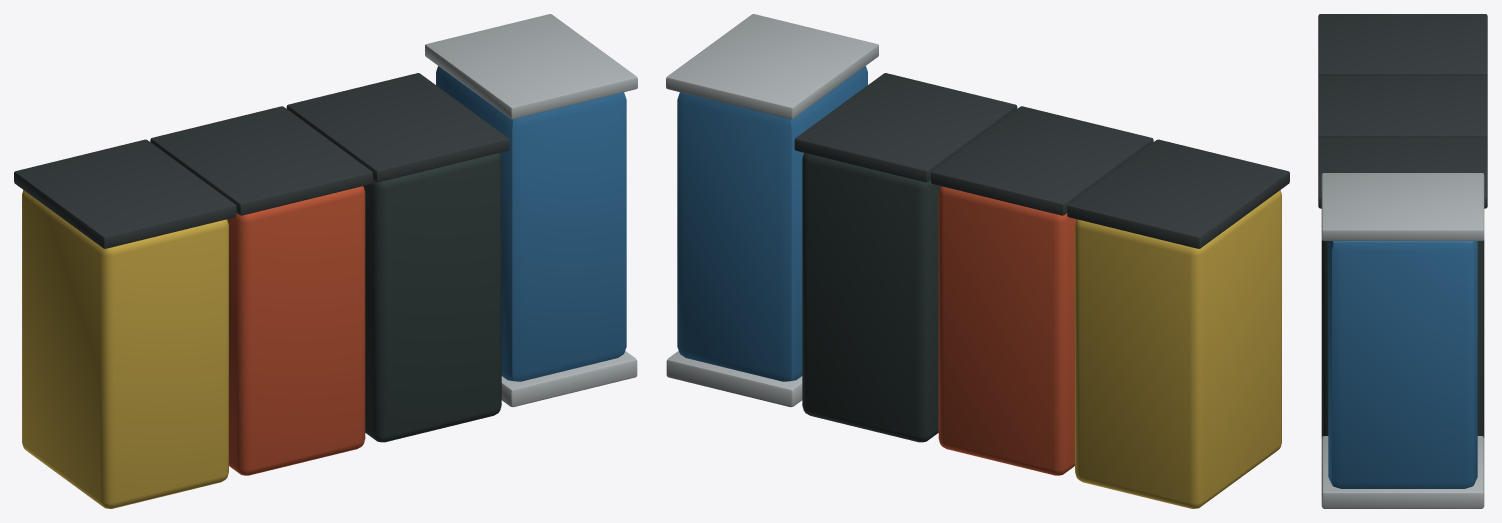
Rendered from sc-waste-station.glb.
3 renders of one model, left to right at view 1: azimuth 30°, elevation 25°; view 2: azimuth 150°, elevation 25°; view 3: azimuth 270°, elevation 25°, orthographic. The views are drawn at different scales.
Parts seen in each view (by area): view 1: sc-waste-station; view 2: sc-waste-station; view 3: sc-waste-station.
Part boxes in pixels (<box>): sc-waste-station: <box>14,14,637,508</box>; sc-waste-station: <box>666,14,1289,508</box>; sc-waste-station: <box>1318,14,1487,508</box>.
Size of the model in its own units: 1.77 by 0.97 by 0.52.
